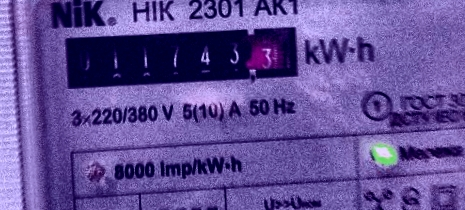0: (76, 44, 92, 73)
1: (137, 40, 151, 69), (108, 42, 120, 70)
3: (226, 38, 242, 66), (258, 45, 273, 71)
4: (196, 40, 212, 67)
7: (166, 38, 183, 67)
screen: (53, 11, 310, 101)
